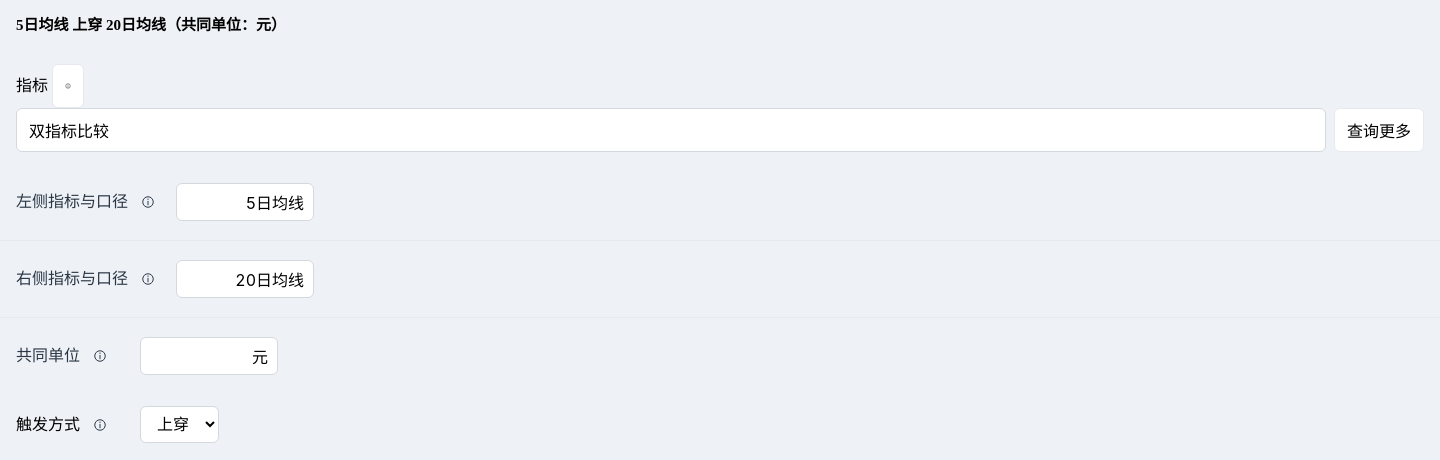
Scenario: edits both series queries, their common unit and comparator without a scalar threshold
Expected: the heading "5日均线 上穿 20日均线（共同单位：元）" is shown, [16,17,286,33]
Replace the text in the field named "entry左侧指标与口径" with "主力净流入金额" at (245, 202), box [176,183,314,221]
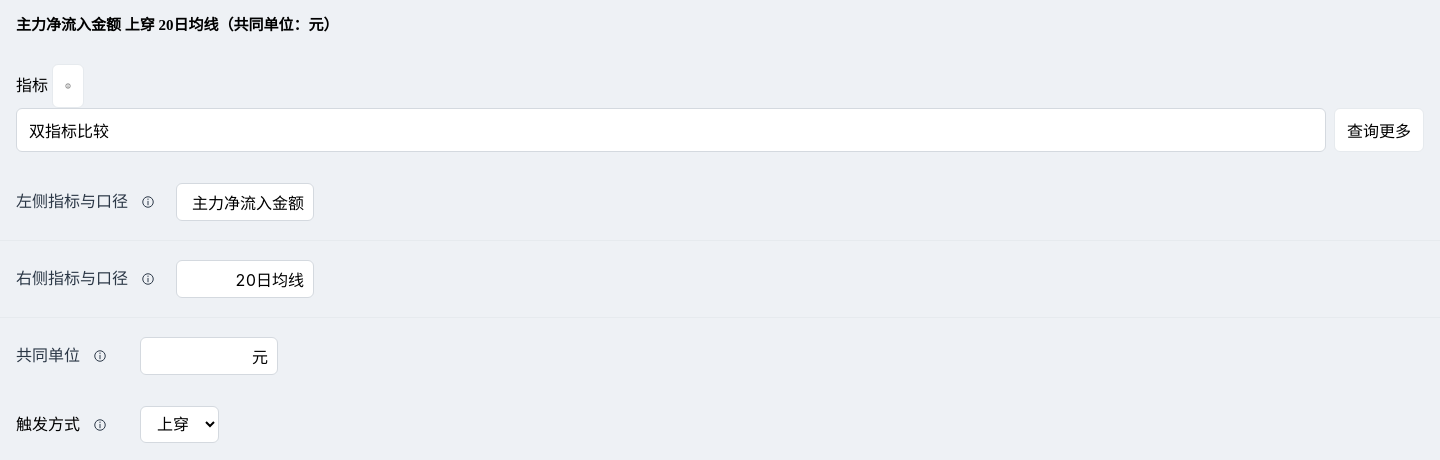
Replace the text in the field named "entry右侧指标与口径" with "前5日平均主力净流入金额" at (245, 279), box [176,260,314,298]
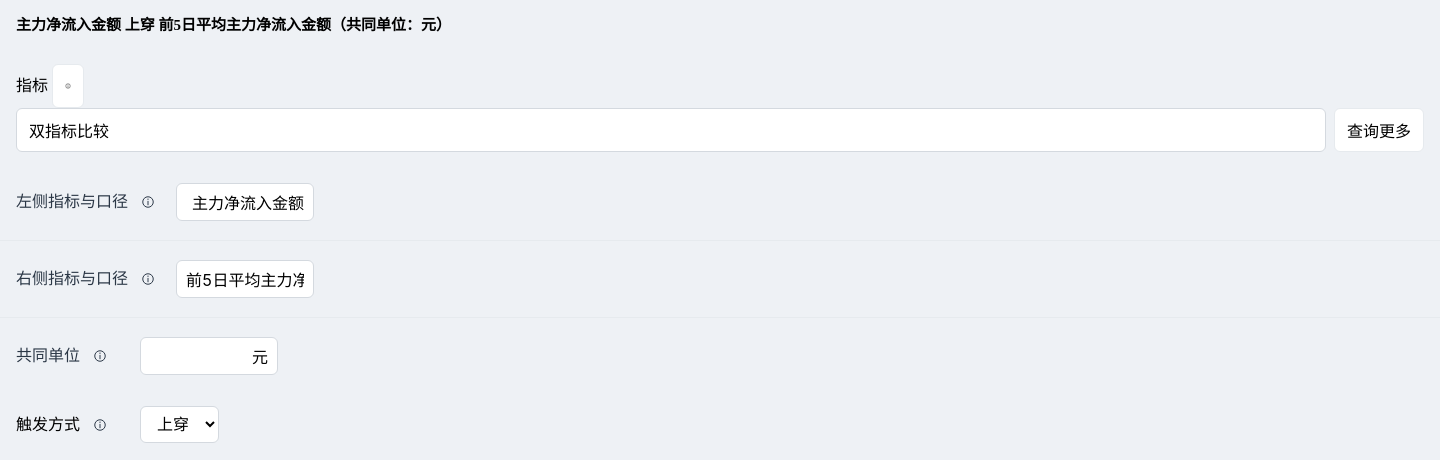
Replace the text in the field named "entry共同单位" with "亿元" at (209, 356), box [140,337,278,375]
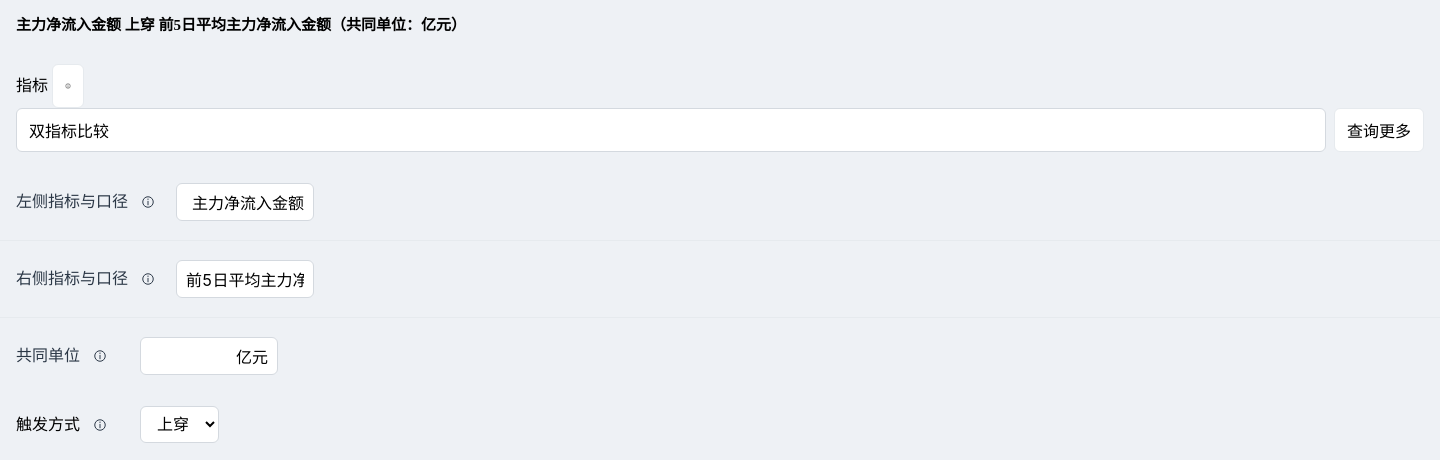
Select "低于" in the dropdown named "entry触发方式" at (180, 424), box [140,406,219,443]
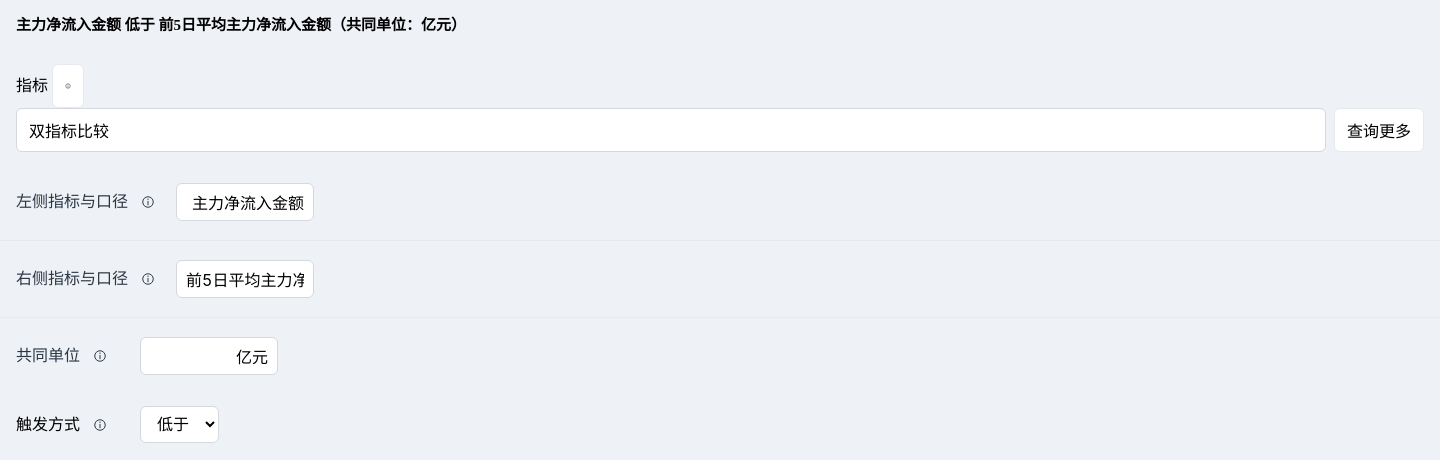
Result: the heading "主力净流入金额 低于 前5日平均主力净流入金额（共同单位：亿元）" is shown at [16,17,466,33]
